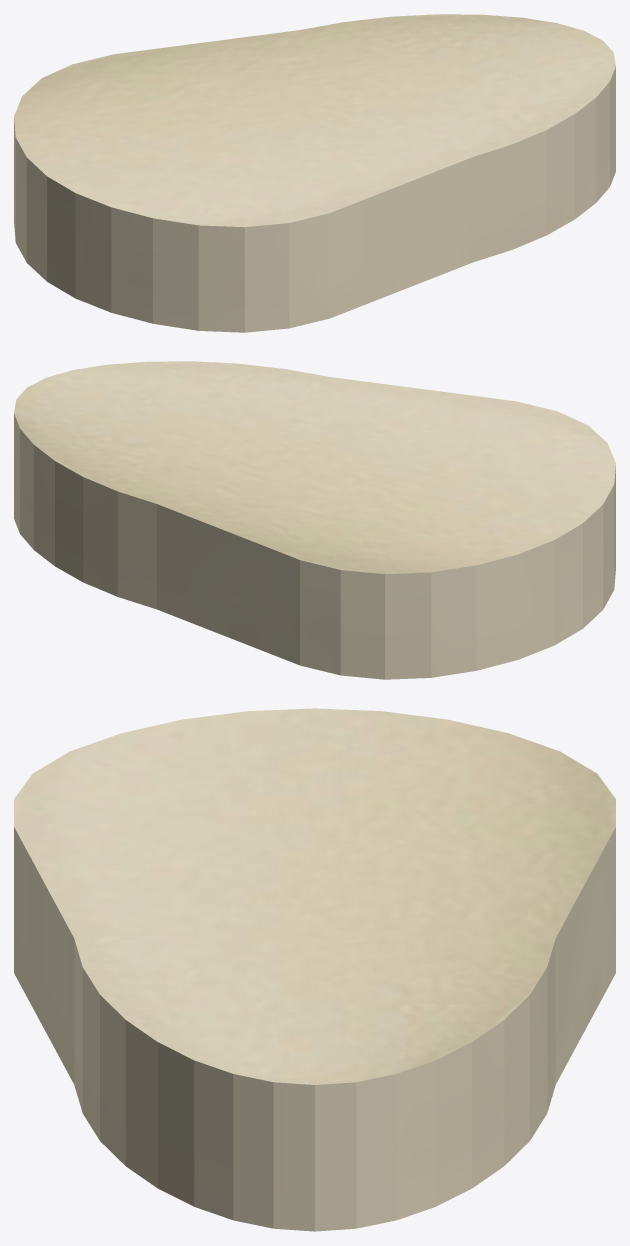
The picture shows the model from 3 angles, top to bottom: view 1: azimuth 30°, elevation 25°; view 2: azimuth 150°, elevation 25°; view 3: azimuth 270°, elevation 25°; orthographic projection. The views are drawn at different scales.
Parts seen in each view (by area): view 1: 圓柱體; view 2: 圓柱體; view 3: 圓柱體.
Boxes of the visible parts, <box> form: 圓柱體: <box>14,14,615,332</box>; 圓柱體: <box>14,361,615,679</box>; 圓柱體: <box>14,708,615,1231</box>.
Size of the model in its own units: 14.76 by 2.68 by 9.97.
